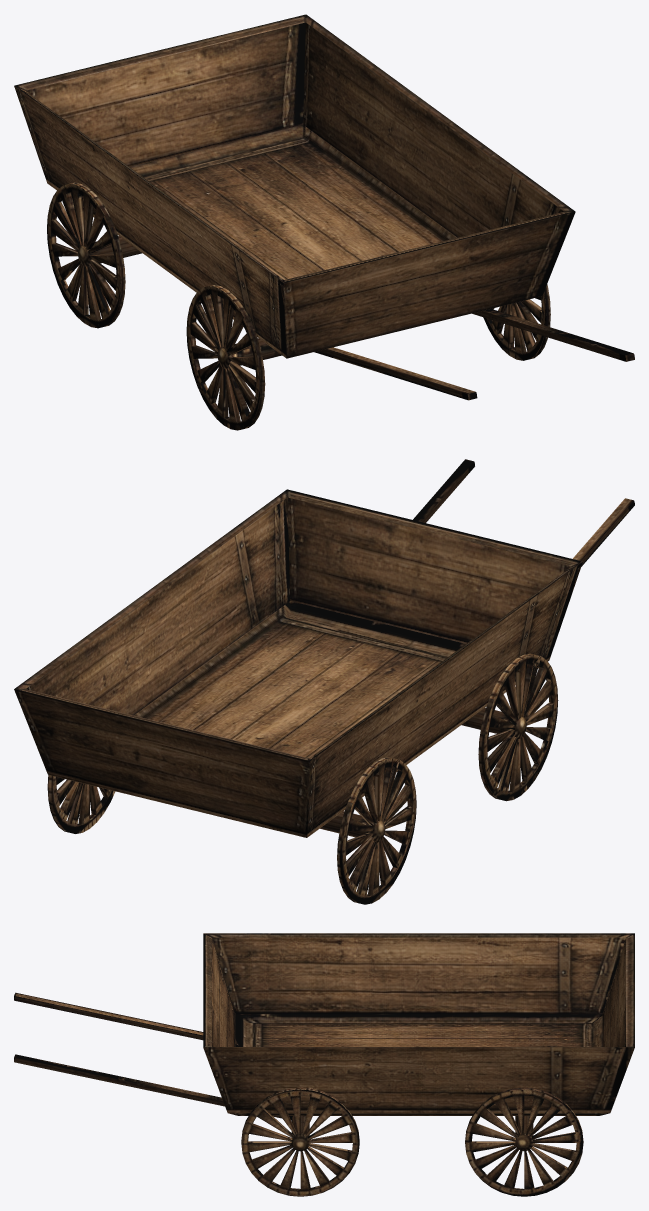
File: cart.fbx
The picture shows the model from 3 angles, top to bottom: view 1: azimuth 30°, elevation 25°; view 2: azimuth 150°, elevation 25°; view 3: azimuth 270°, elevation 25°; orthographic projection. The views are drawn at different scales.
Parts seen in each view (by area): view 1: Cart; view 2: Cart; view 3: Cart.
Part boxes in pixels (x1,y1,x2,y2): Cart: (14,14,634,430); Cart: (14,459,634,904); Cart: (14,933,634,1196).
Size of the model in its own units: 303 by 184 by 690.
Materials: 1 (1 with a texture image).
